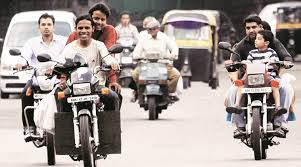no-helmet: (75, 15, 94, 44), (38, 13, 56, 39), (244, 16, 264, 39), (254, 30, 272, 50)
vehicle: (237, 60, 279, 162), (65, 66, 107, 167)
